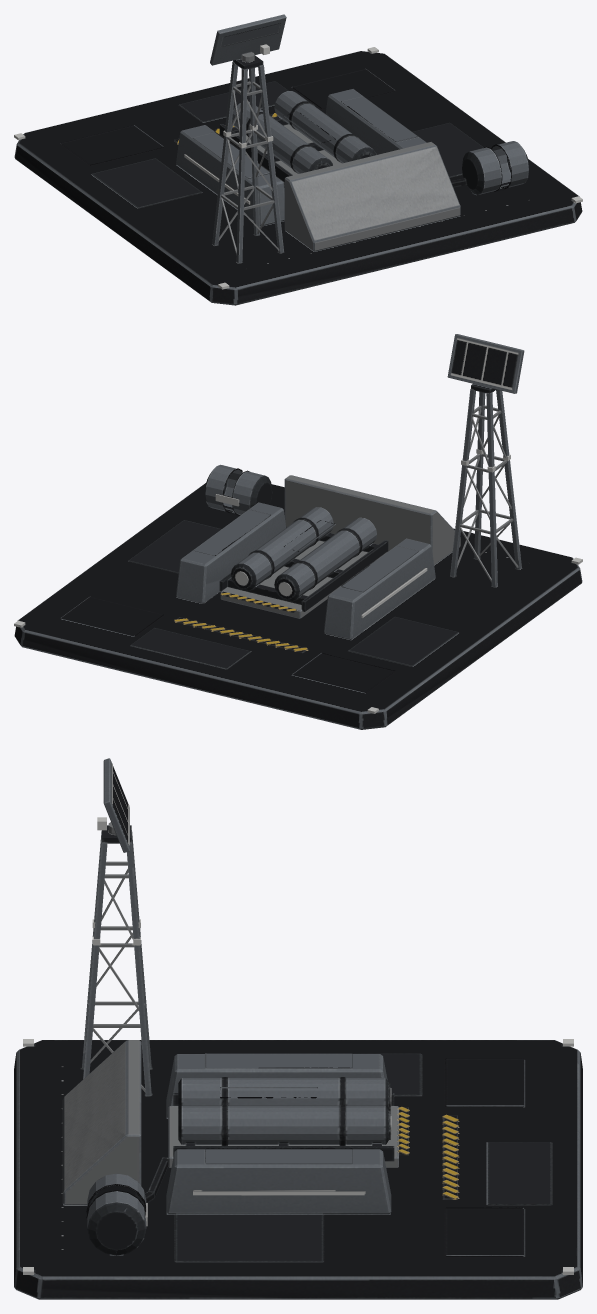
The model's file is chs_cerberus.fbx.
3 renders of one model, top to bottom at view 1: azimuth 30°, elevation 25°; view 2: azimuth 150°, elevation 25°; view 3: azimuth 270°, elevation 25°, orthographic. The views are drawn at different scales.
Parts seen in each view (by area): view 1: base_bar, launcher_bar, radar_bar, base_glow_running_bar; view 2: base_bar, launcher_bar, radar_bar, base_glow_running_bar; view 3: base_bar, launcher_bar, radar_bar, base_glow_running_bar.
Boxes of the visible parts, bbox=[...] form: base_bar: bbox=[14, 51, 582, 305]; launcher_bar: bbox=[219, 91, 376, 185]; radar_bar: bbox=[210, 14, 286, 65]; base_glow_running_bar: bbox=[14, 47, 582, 289]; base_bar: bbox=[14, 384, 582, 729]; launcher_bar: bbox=[219, 507, 388, 618]; radar_bar: bbox=[447, 334, 524, 393]; base_glow_running_bar: bbox=[14, 448, 582, 713]; base_bar: bbox=[14, 825, 582, 1299]; launcher_bar: bbox=[168, 1077, 409, 1167]; radar_bar: bbox=[103, 758, 129, 852]; base_glow_running_bar: bbox=[23, 919, 573, 1274].
Bounding box in the file's own units: 2318 × 1657 × 2318.
2 materials, 2 textured.
